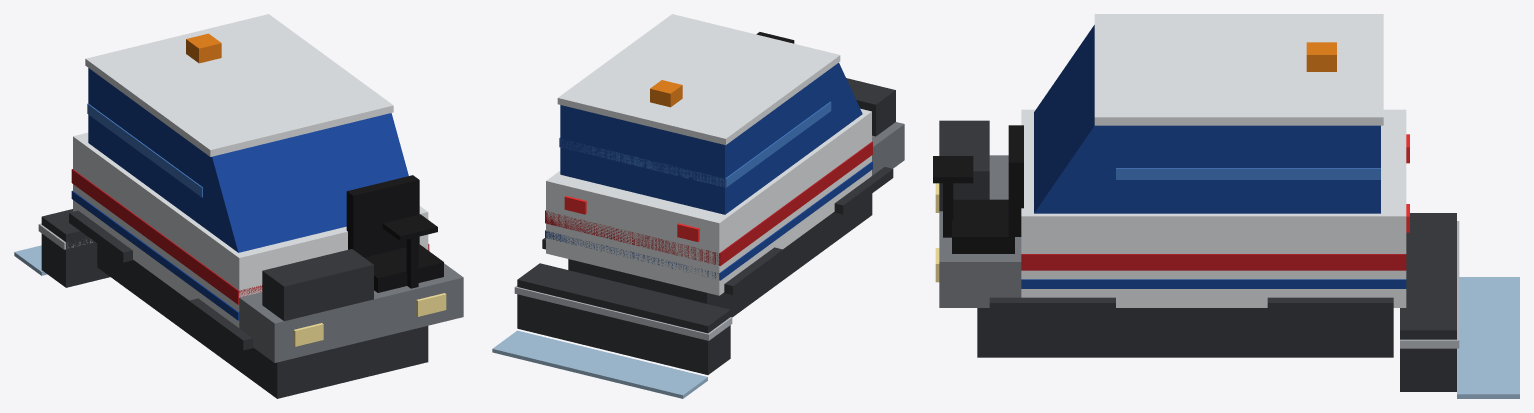
File: alisadora_cuerpo.obj
3 views of the same model, side by side, from view 1: azimuth 30°, elevation 25°; view 2: azimuth 150°, elevation 25°; view 3: azimuth 270°, elevation 25° (orthographic). The views are drawn at different scales.
Parts seen in each view (by area): view 1: alisadora_cuerpo; view 2: alisadora_cuerpo; view 3: alisadora_cuerpo.
Part boxes in pixels (box(x1,y1,x2,y2)): alisadora_cuerpo: box(14, 14, 463, 398); alisadora_cuerpo: box(492, 14, 904, 398); alisadora_cuerpo: box(933, 14, 1519, 398).
Bounding box in the file's own units: 2.24 × 2.55 × 4.65.
Materials: 1 (1 with a texture image).
